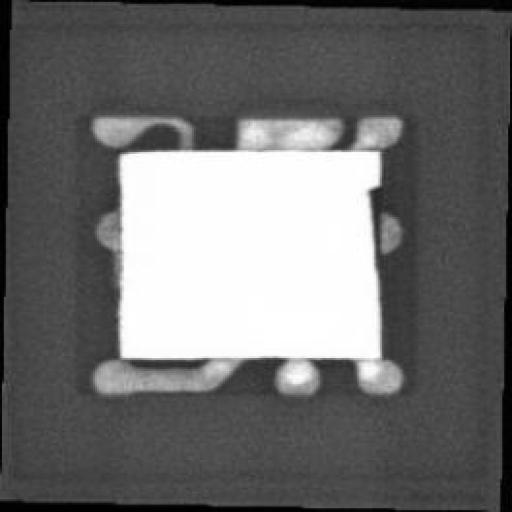DIE_BROKEN: (363, 180, 380, 271)
